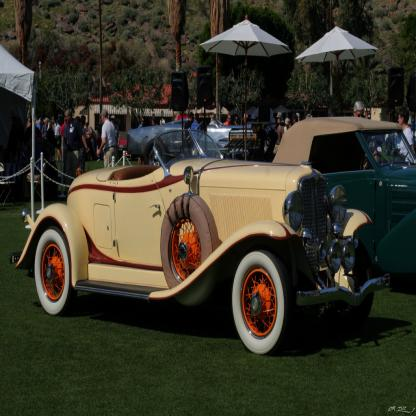Car: (83, 116, 416, 273)
